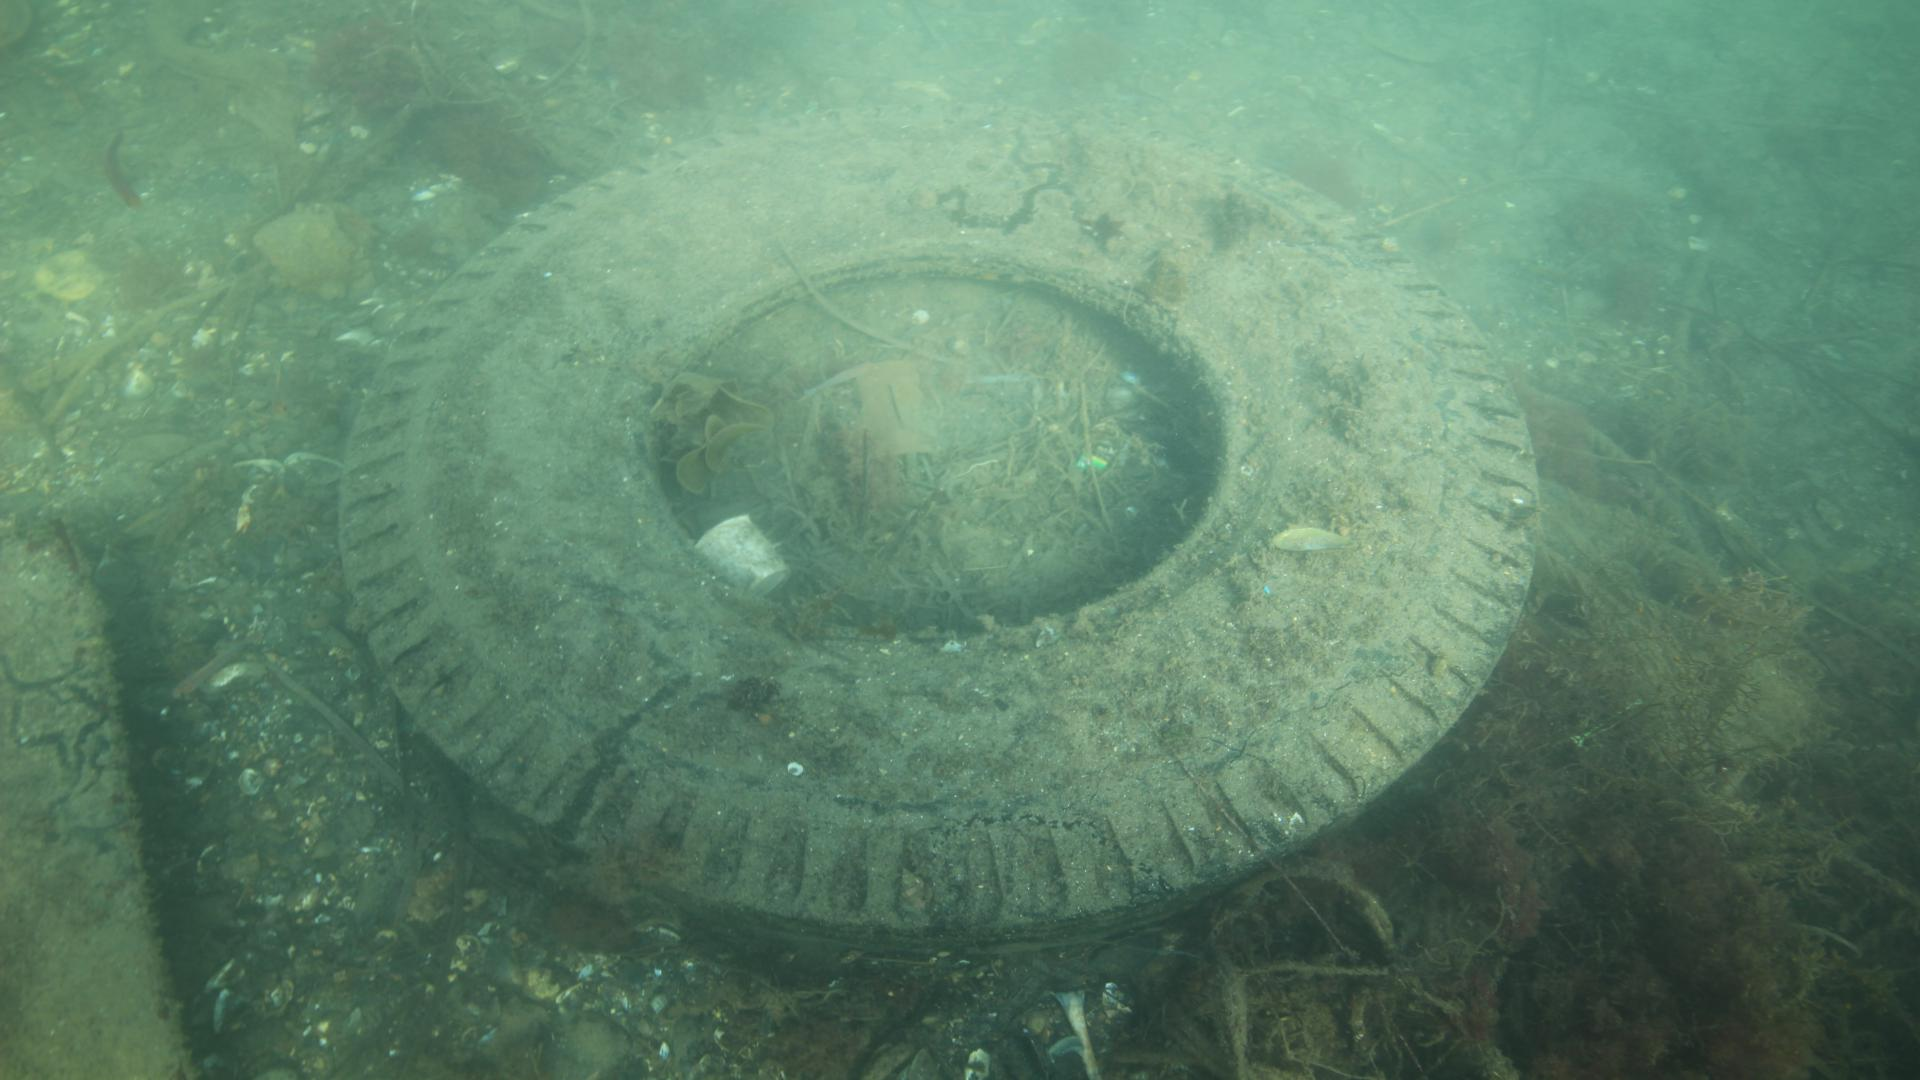tire: (334, 103, 1543, 960)
